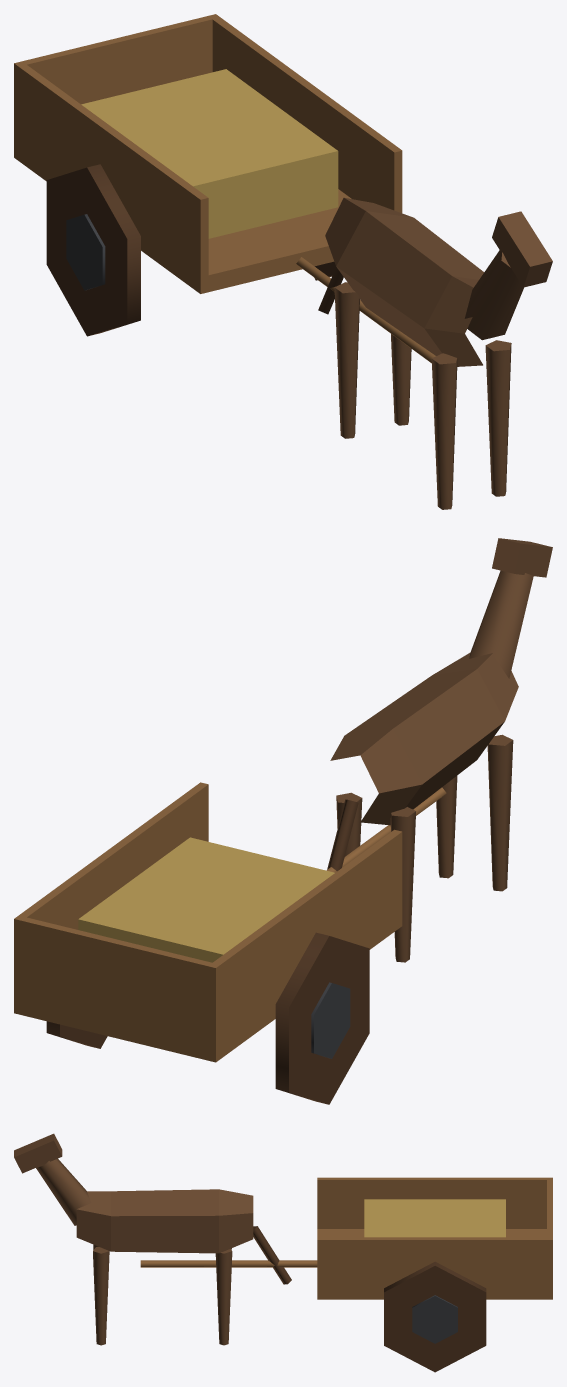
The model's file is veh_ground_cart_a01_lod1.glb.
3 renders of one model, top to bottom at view 1: azimuth 30°, elevation 25°; view 2: azimuth 150°, elevation 25°; view 3: azimuth 270°, elevation 25°, orthographic. The views are drawn at different scales.
Parts seen in each view (by area): view 1: body, animal_0, wheel_0; view 2: body, animal_0, wheel_0, wheel_1; view 3: body, animal_0, wheel_1.
Part boxes in pixels (box(x1,y1,x2,y2)): body: box(14, 14, 435, 363); animal_0: box(318, 197, 552, 509); wheel_0: box(46, 164, 140, 336); body: box(14, 782, 446, 1062); animal_0: box(327, 538, 552, 962); wheel_0: box(275, 932, 369, 1104); wheel_1: box(46, 1021, 107, 1048); body: box(140, 1177, 552, 1299); animal_0: box(14, 1133, 291, 1345); wheel_1: box(384, 1261, 486, 1372).
Bounding box in the file's own units: 1.84 × 2.23 × 5.49.
